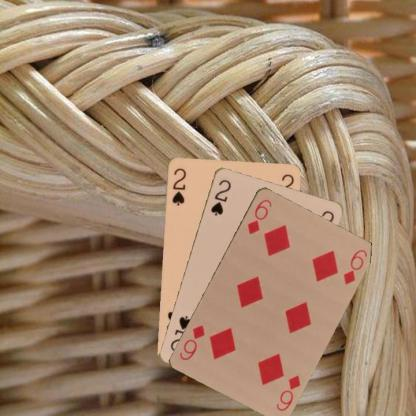2s: (208, 176, 232, 217), (169, 165, 187, 207)
6d: (244, 196, 273, 236), (273, 372, 302, 412)
